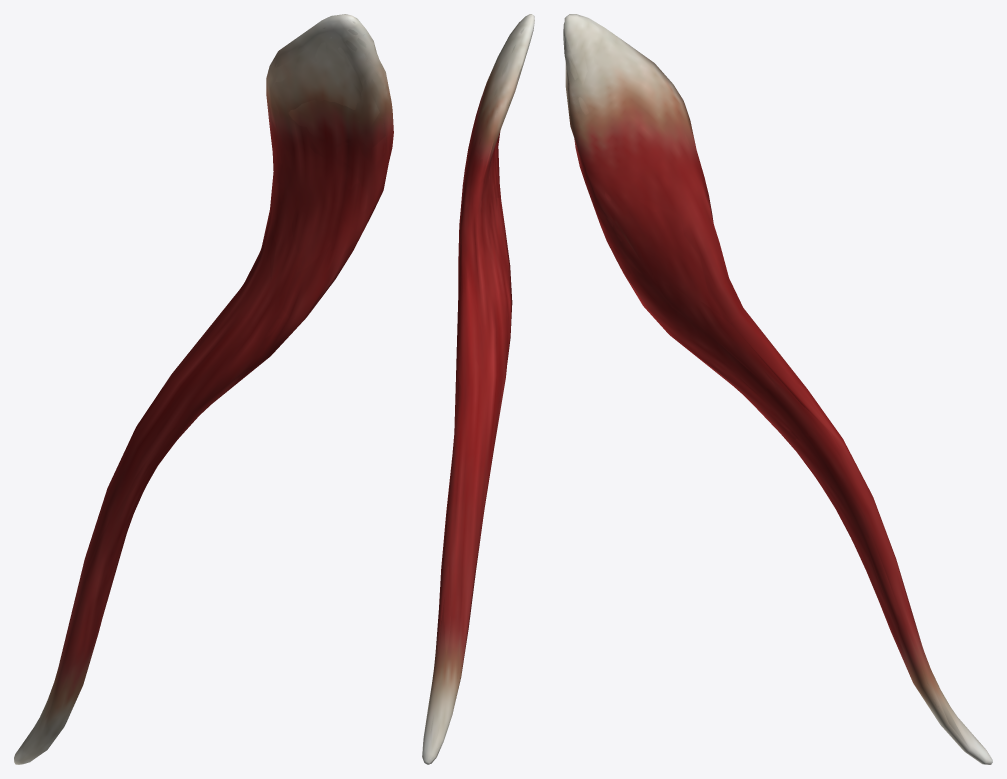
File: L Sternocephalicus.fbx
3 views of the same model, side by side, from view 1: azimuth 30°, elevation 25°; view 2: azimuth 150°, elevation 25°; view 3: azimuth 270°, elevation 25° (orthographic). The views are drawn at different scales.
Parts seen in each view (by area): view 1: L Sternocephalicus, L Sternocephalicus high, L Sternocephalicus low; view 2: L Sternocephalicus, L Sternocephalicus low, L Sternocephalicus high; view 3: L Sternocephalicus, L Sternocephalicus low, L Sternocephalicus high.
Part boxes in pixels (<box>): L Sternocephalicus: <box>14,14,393,764</box>; L Sternocephalicus high: <box>18,21,390,757</box>; L Sternocephalicus low: <box>39,14,393,719</box>; L Sternocephalicus: <box>422,14,534,764</box>; L Sternocephalicus low: <box>424,14,534,763</box>; L Sternocephalicus high: <box>423,28,524,764</box>; L Sternocephalicus: <box>563,14,992,764</box>; L Sternocephalicus low: <box>564,14,985,748</box>; L Sternocephalicus high: <box>564,20,989,756</box>.
Bounding box in the file's own units: 1.91 × 10.67 × 5.28.
